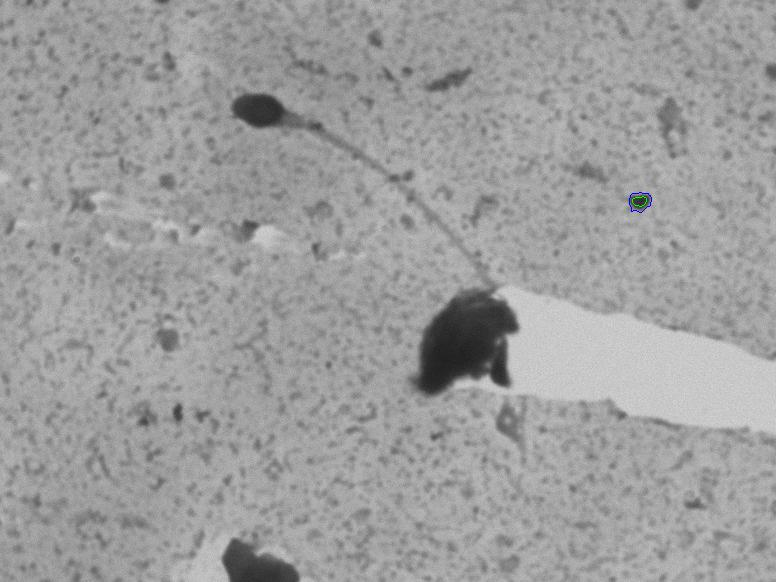Abnormal: (208, 80, 498, 306)
